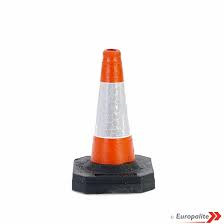cones: (69, 48, 156, 193)
